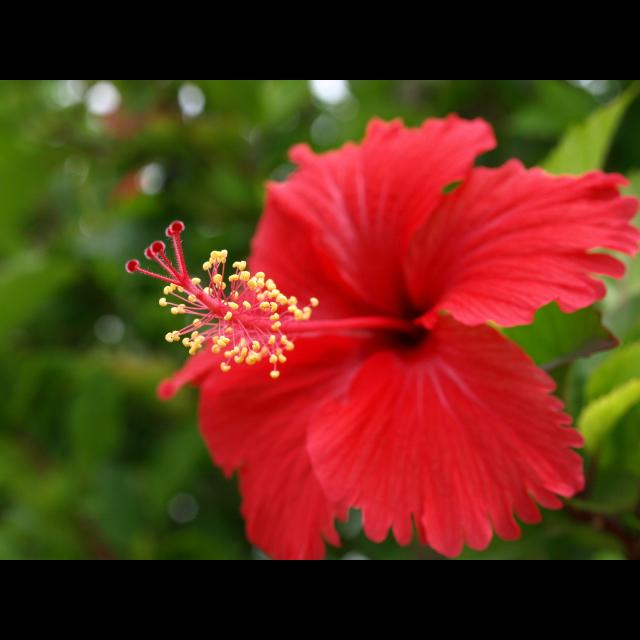Flower: (160, 124, 606, 556)
